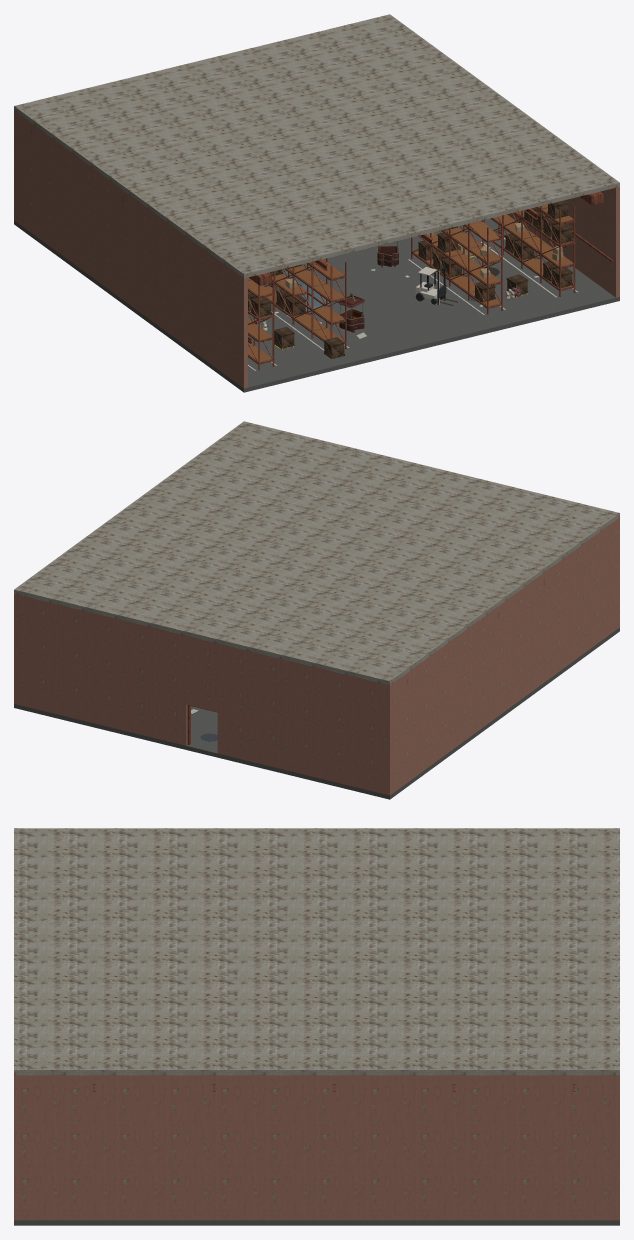
Rendered from zone_e_warehouse.glb.
3 renders of one model, top to bottom at view 1: azimuth 30°, elevation 25°; view 2: azimuth 150°, elevation 25°; view 3: azimuth 270°, elevation 25°, orthographic. The views are drawn at different scales.
Parts seen in each view (by area): view 1: E_ceiling, E_walls, E_floor, E_racks_steel, E_racks_decks, E_dressing, E_overhead, E_cabin_a; view 2: E_ceiling, E_walls, E_floor; view 3: E_ceiling, E_walls, E_floor.
Boxes of the visible parts, left/top/right/bottom form: E_ceiling: left=14, top=14, right=619, bottom=278; E_walls: left=14, top=110, right=619, bottom=388; E_floor: left=14, top=218, right=619, bottom=392; E_racks_steel: left=248, top=206, right=575, bottom=370; E_racks_decks: left=248, top=204, right=573, bottom=362; E_dressing: left=248, top=223, right=577, bottom=370; E_overhead: left=30, top=130, right=603, bottom=285; E_cabin_a: left=338, top=293, right=364, bottom=332; E_ceiling: left=14, top=421, right=619, bottom=685; E_walls: left=14, top=517, right=619, bottom=795; E_floor: left=14, top=627, right=619, bottom=799; E_ceiling: left=14, top=828, right=619, bottom=1075; E_walls: left=14, top=1075, right=619, bottom=1220; E_floor: left=14, top=1220, right=619, bottom=1225.
Size of the model in its own units: 28.6 by 8.6 by 30.3.
Materials: 11 (11 with a texture image).
